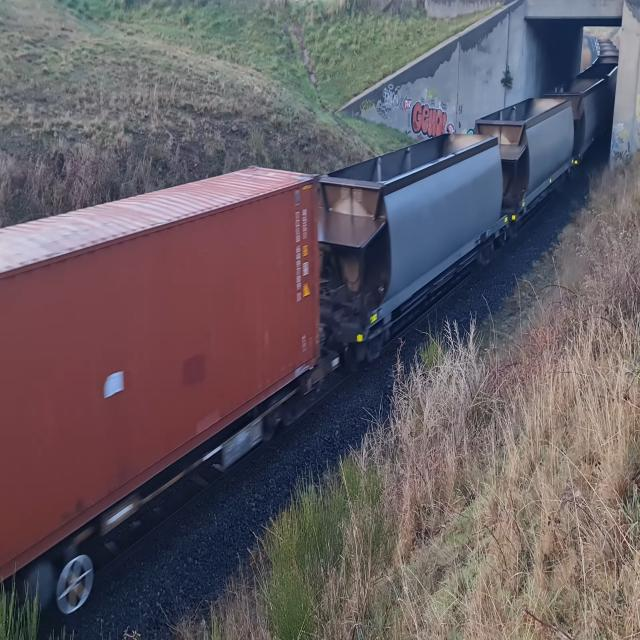container: (0, 156, 317, 623)
hopper: (317, 125, 520, 379), (472, 93, 577, 230)
